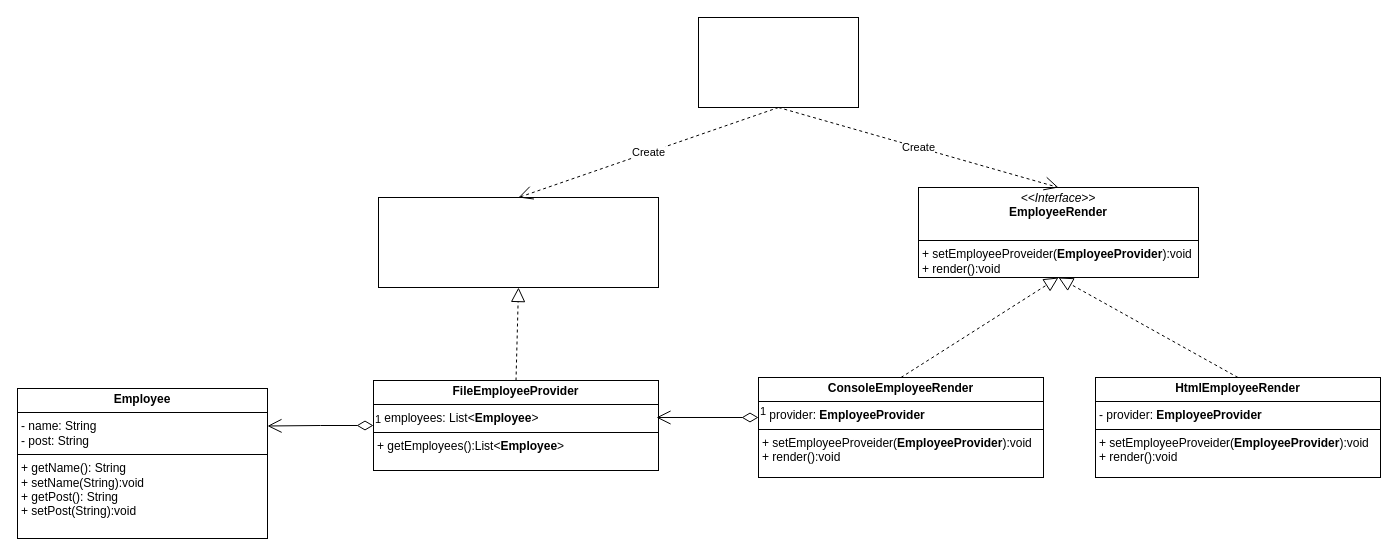
This 1398x556 diagram has some shape labels left out. Here are the shapes that lost their labels. From the top down, the box of each, then its label:
(698, 16, 858, 108): Application + main(List<String>): Void
(378, 196, 658, 288): <<Interface>> EmployeeProvider + getEmployees():List< Employee >
